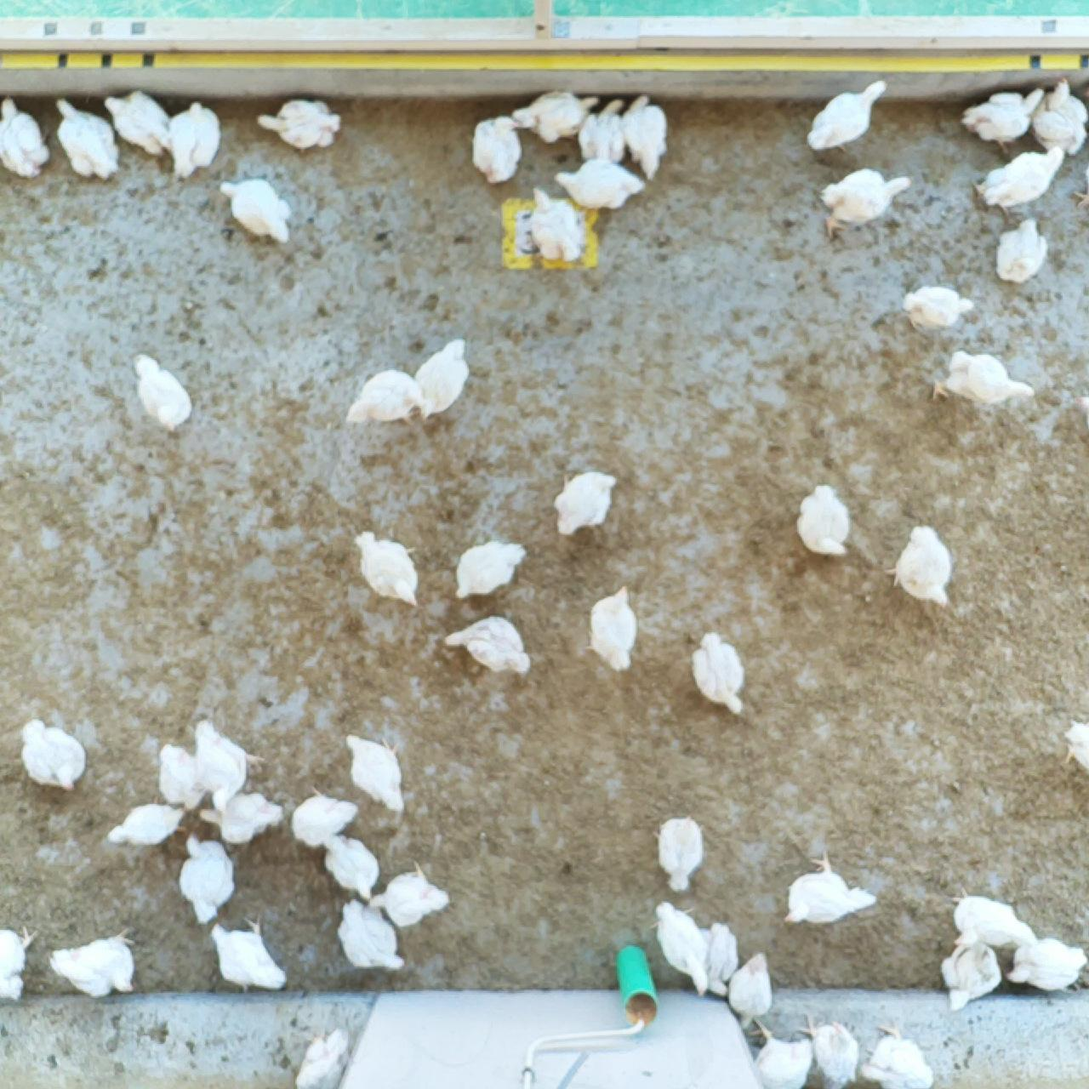chicken: (972, 146, 1067, 220), (926, 347, 1032, 406), (192, 720, 260, 811), (52, 928, 141, 997), (820, 171, 910, 239), (882, 523, 952, 609), (790, 853, 876, 923), (208, 923, 286, 995), (340, 733, 408, 813), (951, 888, 1037, 951), (444, 613, 531, 675), (807, 79, 882, 149), (344, 367, 424, 430), (100, 90, 174, 158), (855, 1021, 929, 1089), (356, 532, 423, 607), (58, 100, 121, 179), (371, 864, 450, 927), (14, 721, 88, 787), (333, 899, 402, 969), (217, 180, 291, 245), (966, 87, 1037, 154), (746, 1018, 812, 1089), (178, 835, 232, 921), (194, 790, 284, 840), (455, 539, 526, 602), (508, 93, 597, 143), (1029, 77, 1086, 155), (557, 158, 644, 209), (254, 99, 339, 151), (131, 356, 192, 428), (552, 471, 620, 535), (652, 902, 705, 984), (690, 633, 745, 712), (939, 941, 1001, 1010), (587, 586, 639, 668), (165, 100, 220, 177), (316, 834, 381, 898), (1, 94, 48, 181), (792, 485, 849, 556), (413, 337, 466, 413), (530, 187, 584, 261), (293, 790, 363, 847), (648, 817, 705, 887), (1006, 937, 1081, 988), (622, 94, 664, 181), (156, 744, 212, 809), (109, 801, 182, 850), (991, 216, 1046, 280), (804, 1016, 857, 1081), (578, 98, 624, 172), (473, 117, 523, 184), (727, 949, 767, 1029), (701, 920, 740, 997), (904, 287, 972, 331), (1, 924, 40, 999), (1067, 720, 1089, 781), (1075, 396, 1089, 415)
